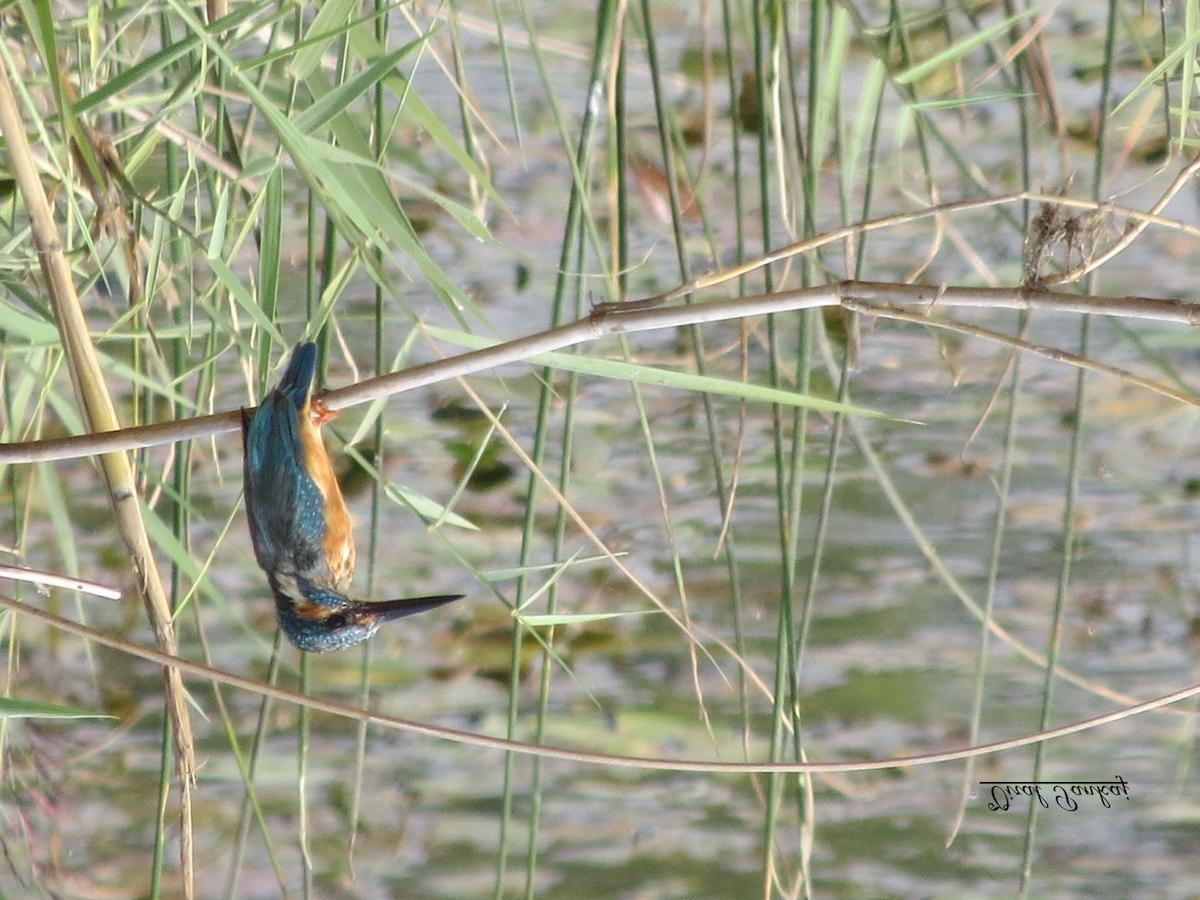kingfisher: (217, 339, 454, 653)
